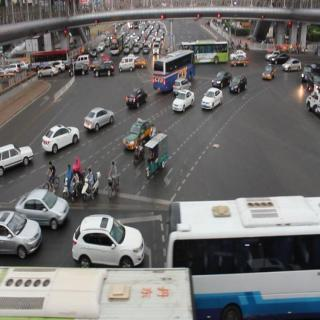BigCar: (166, 197, 320, 320), (1, 260, 194, 320), (153, 47, 194, 90), (177, 35, 230, 68), (31, 48, 69, 71)
Car: (68, 204, 140, 275), (15, 184, 72, 224), (0, 207, 39, 255), (45, 120, 89, 160), (0, 133, 32, 181), (77, 96, 114, 136), (124, 112, 151, 154), (199, 88, 229, 125), (167, 85, 200, 115), (125, 86, 149, 108), (212, 66, 233, 90), (94, 56, 110, 84), (69, 59, 89, 81), (300, 58, 314, 88), (281, 54, 302, 73), (267, 49, 290, 66), (230, 75, 247, 94), (231, 44, 250, 60), (119, 53, 138, 68), (40, 65, 59, 80), (5, 59, 24, 74), (261, 64, 274, 84), (135, 53, 148, 72), (16, 54, 30, 71)
